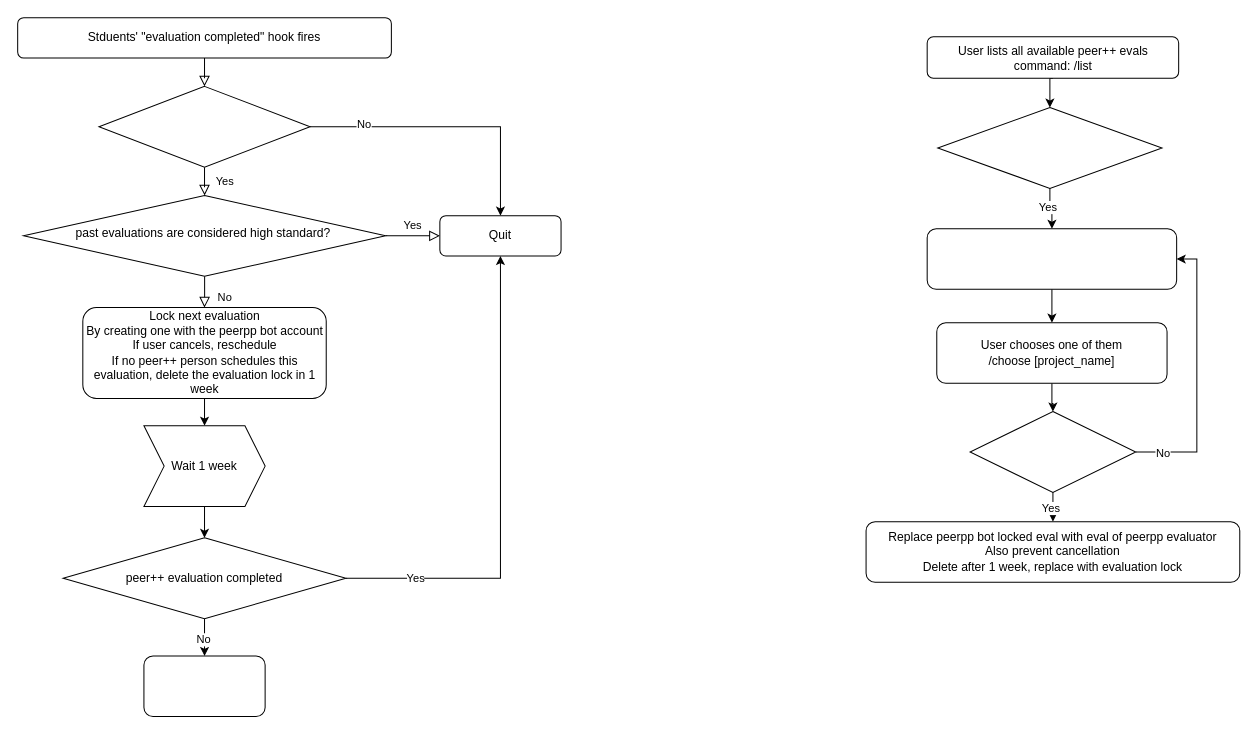
Some shapes in this 1257 by 734 pixel diagram are drawn without their labels. Each missing label, with the centre of its shape:
"Eval is available?" belongs at [1052,451].
"evaluations done == 2" belongs at [204,126].
"List all possible peer++ evals Usernames are left out" belongs at [1051,258].
"Remove evaluation lock" belongs at [204,686].
"User is part of peer++ group" belongs at [1049,147].
